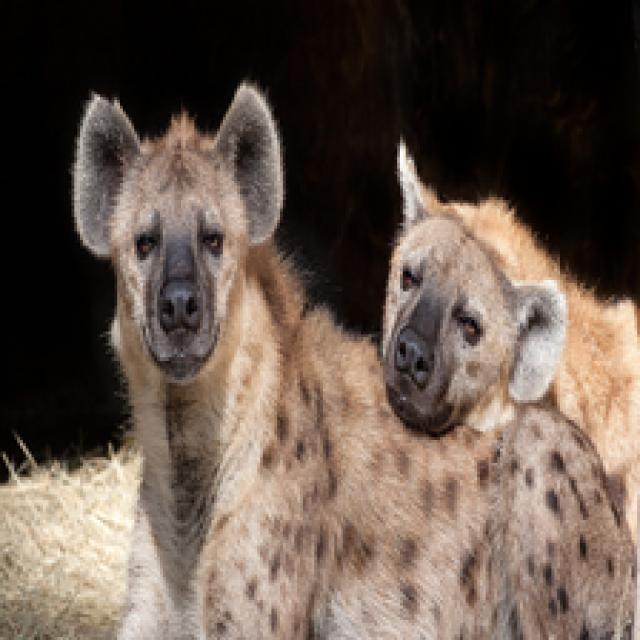hyena: (62, 86, 594, 640), (365, 134, 618, 452)
